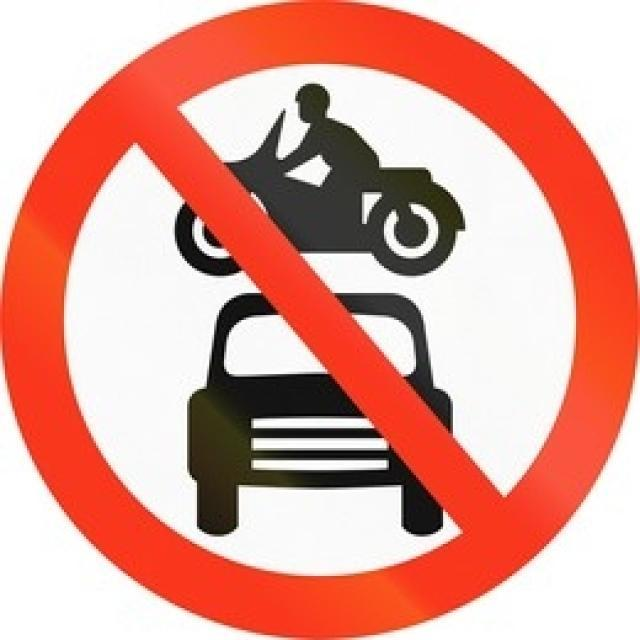all motor vehicle prohibited: (11, 10, 630, 623)
